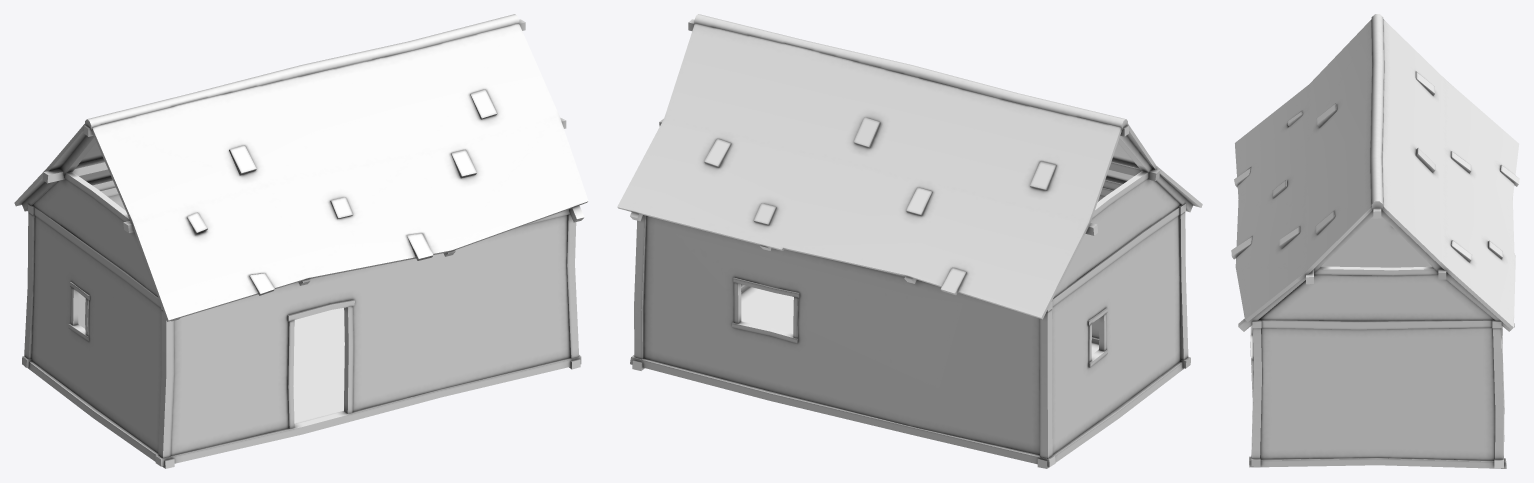
File: WoodenHut_01.fbx
3 views of the same model, side by side, from view 1: azimuth 30°, elevation 25°; view 2: azimuth 150°, elevation 25°; view 3: azimuth 270°, elevation 25° (orthographic). The views are drawn at different scales.
Parts seen in each view (by area): view 1: Hut01; view 2: Hut01; view 3: Hut01.
Part boxes in pixels (bbox=[...]): Hut01: bbox=[14, 14, 588, 468]; Hut01: bbox=[617, 14, 1202, 468]; Hut01: bbox=[1231, 14, 1519, 468].
Size of the model in its own units: 4961 by 3205 by 3085.
